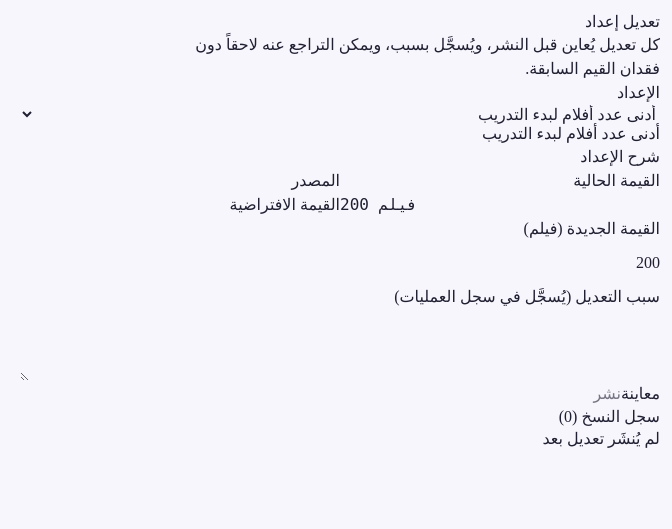
Test: SettingsAdmin › shows the real current version and value on a 409 version conflict
Expected: the number field labelled "القيمة الجديدة (فيلم)" is shown, [340,241,660,285]
In the text box labelled "سبب التعديل (يُسجَّل في سجل العمليات)": x=340, y=345 [20,309,660,381], type "x"
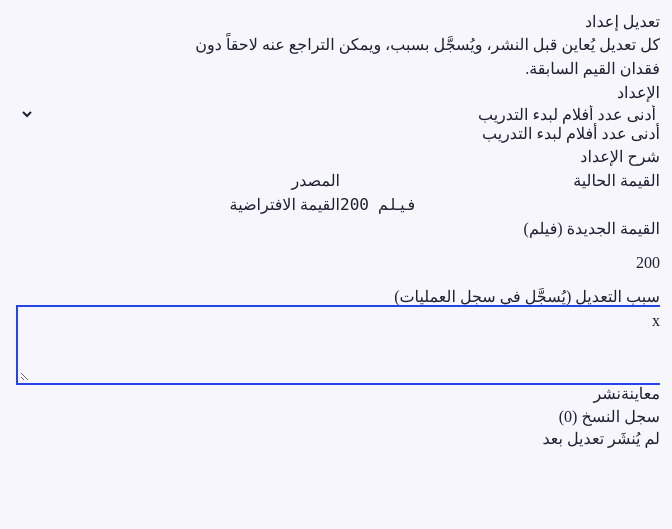
Click the button "نشر": x=607, y=394 [593,381,621,407]
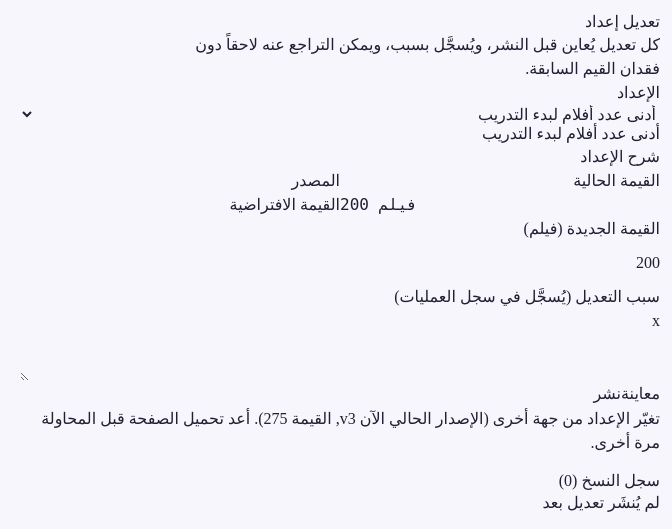
Expected: the message shows "v3", [41,410,660,451]
Expected: the message shows "275", [41,410,660,451]
